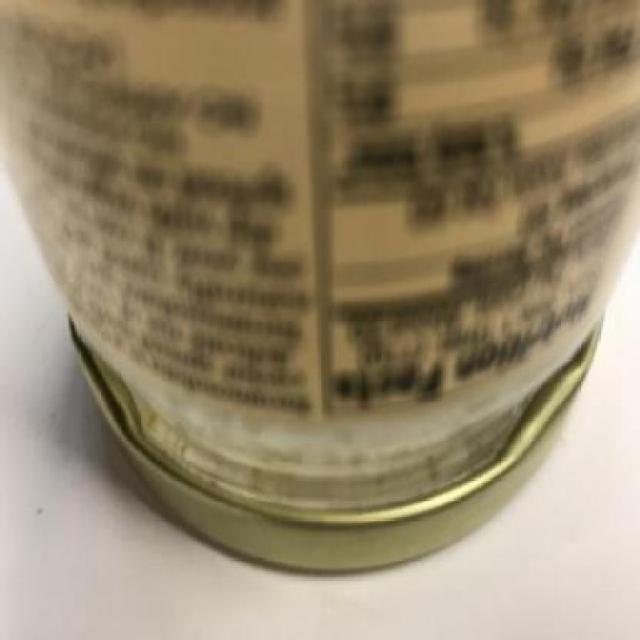kaca: (0, 0, 638, 503)
